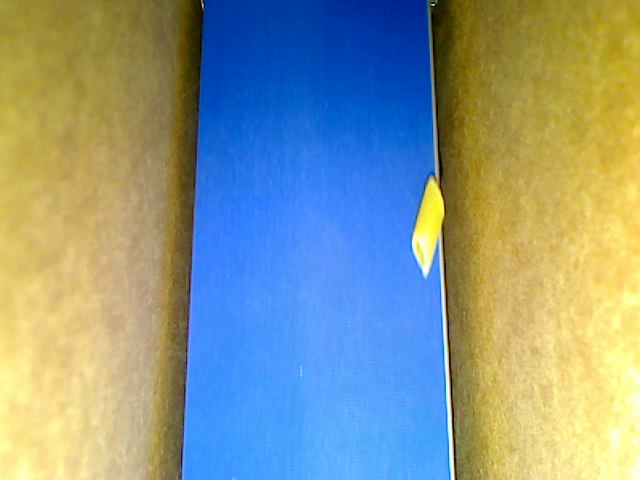penne: (410, 173, 446, 279)
